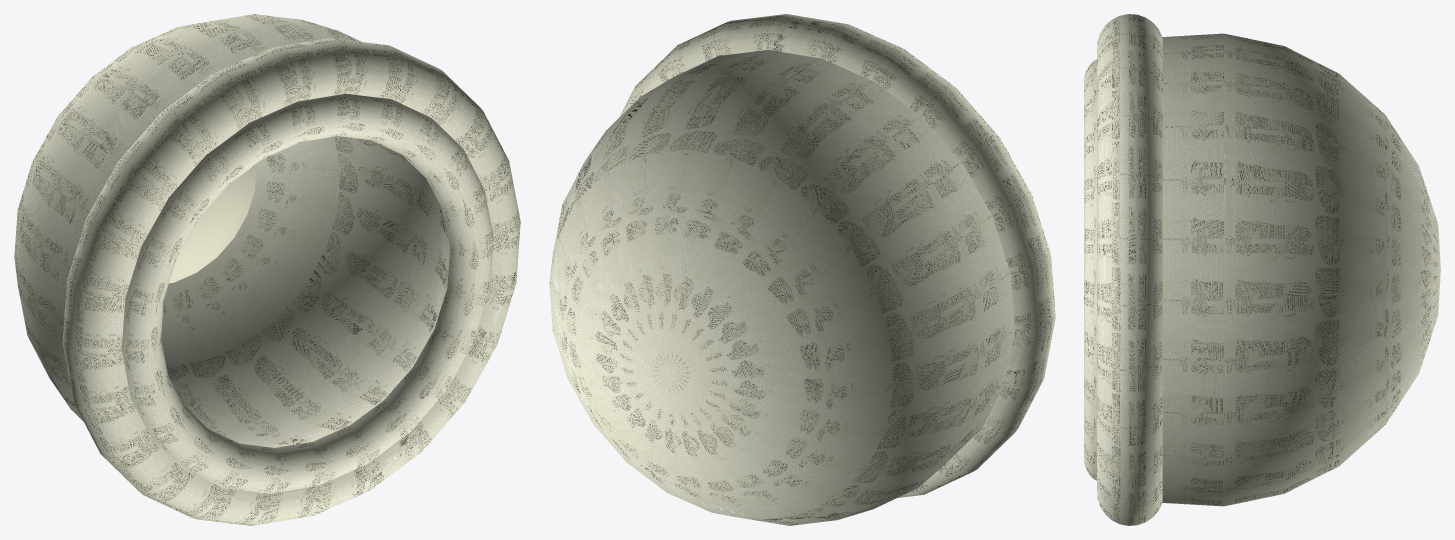
The model's file is model_align.obj.
The picture shows the model from 3 angles, left to right: view 1: azimuth 30°, elevation 25°; view 2: azimuth 150°, elevation 25°; view 3: azimuth 270°, elevation 25°; orthographic projection.
Visible parts, largest first — view 1: mesh1_mesh1-geometry; view 2: mesh1_mesh1-geometry; view 3: mesh1_mesh1-geometry.
Boxes of the visible parts, bbox=[...] form: mesh1_mesh1-geometry: bbox=[14, 14, 520, 525]; mesh1_mesh1-geometry: bbox=[549, 14, 1055, 525]; mesh1_mesh1-geometry: bbox=[1084, 14, 1440, 525].
Size of the model in its own units: 0.1421 by 0.1421 by 0.0985.
